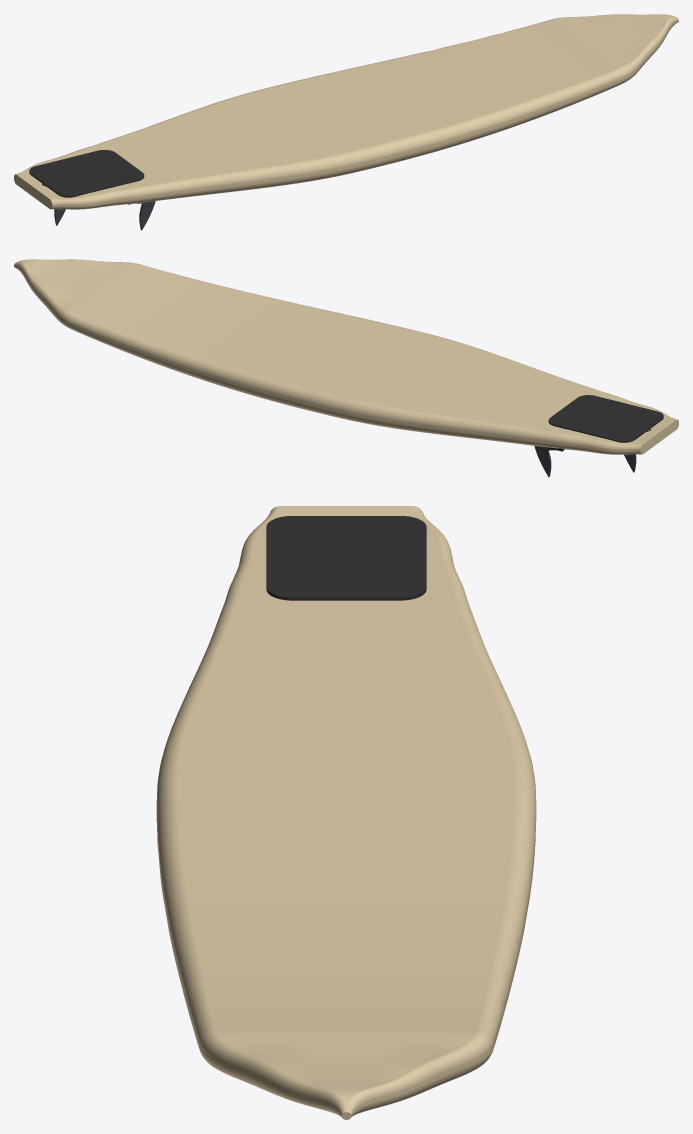
3 views of the same model, one above another, from view 1: azimuth 30°, elevation 25°; view 2: azimuth 150°, elevation 25°; view 3: azimuth 270°, elevation 25° (orthographic). The views are drawn at different scales.
Visible parts, largest first — view 1: body.1, rubber.4; view 2: body.1, rubber.4; view 3: body.1, rubber.4.
Part boxes in pixels (x1,y1,x2,y2): body.1: (14, 14, 678, 209); rubber.4: (29, 150, 144, 197); body.1: (14, 259, 678, 454); rubber.4: (548, 395, 663, 442); body.1: (156, 506, 536, 1119); rubber.4: (266, 516, 426, 600).
Size of the model in its own units: 2.29 by 0.2096 by 0.5833.
